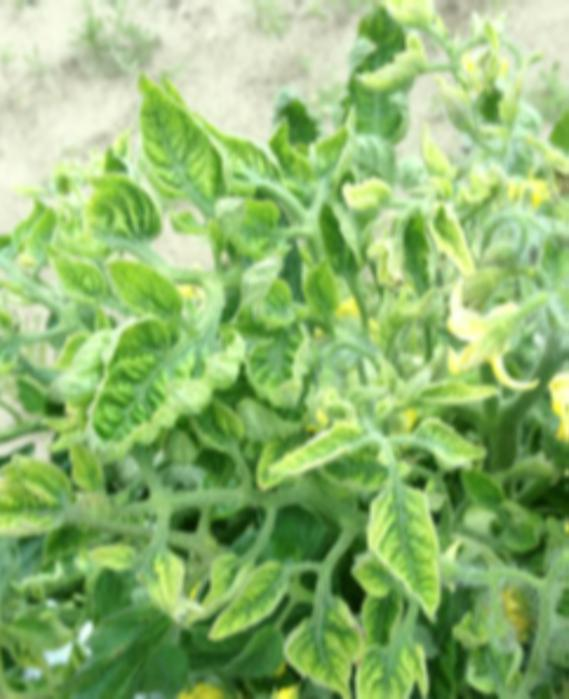Tomato leaf yellow virus: (73, 312, 254, 476), (114, 67, 227, 204), (357, 475, 461, 618), (225, 324, 336, 414), (87, 253, 199, 342), (0, 454, 85, 561), (349, 625, 468, 699), (203, 558, 297, 648), (285, 600, 370, 696), (441, 310, 555, 377)
